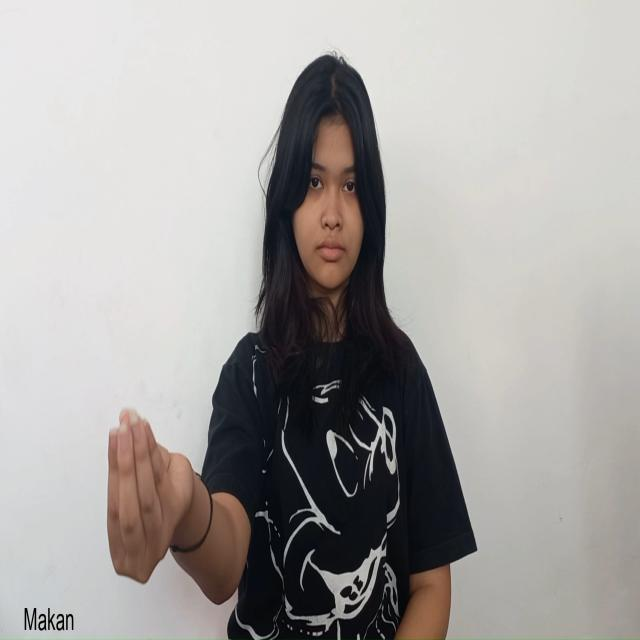Makan -BISINDO-: (104, 400, 198, 594)
